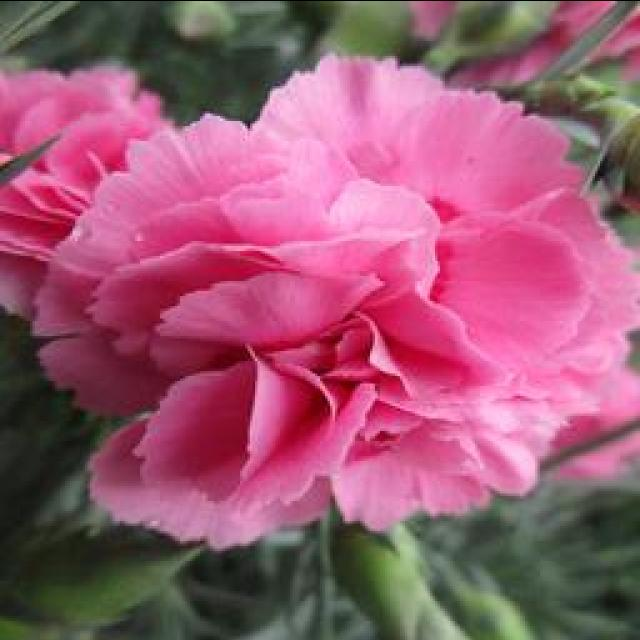carnation: (40, 53, 630, 546)
